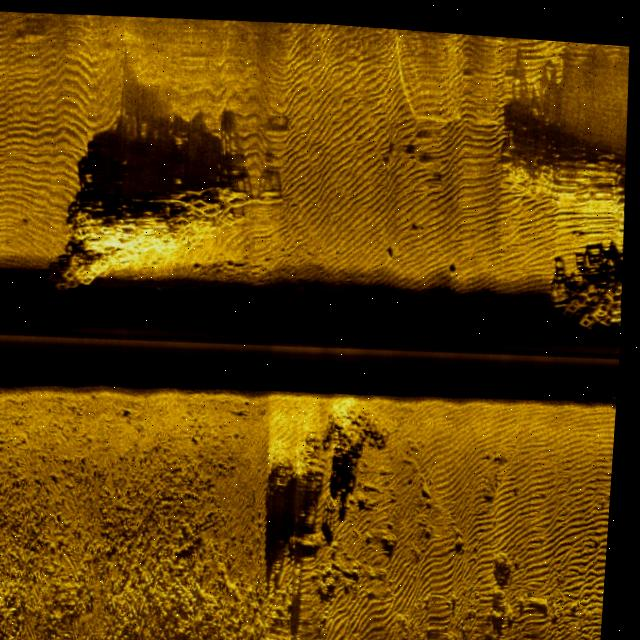artificial reef: (44, 145, 274, 314), (562, 238, 628, 327)
